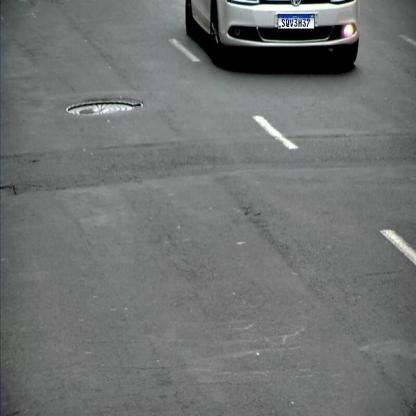PlacaM: (278, 14, 314, 29)
